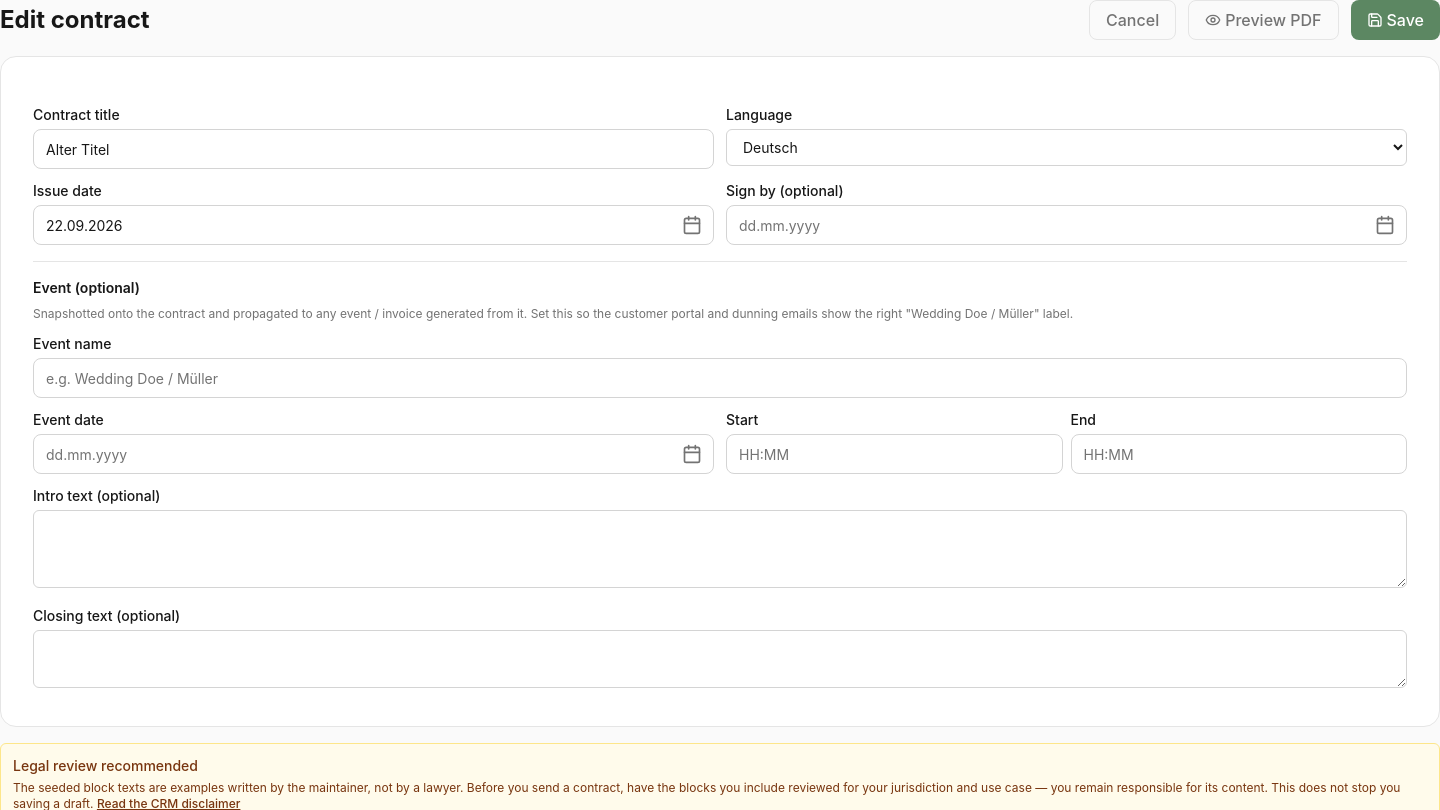
Test case: ContractEditorPage conflict › "Take theirs" loads the other version
Replace the text in the field showing "Titel" below "Contract title" with "Mein Titel" at (374, 149), box [33,129,714,169]
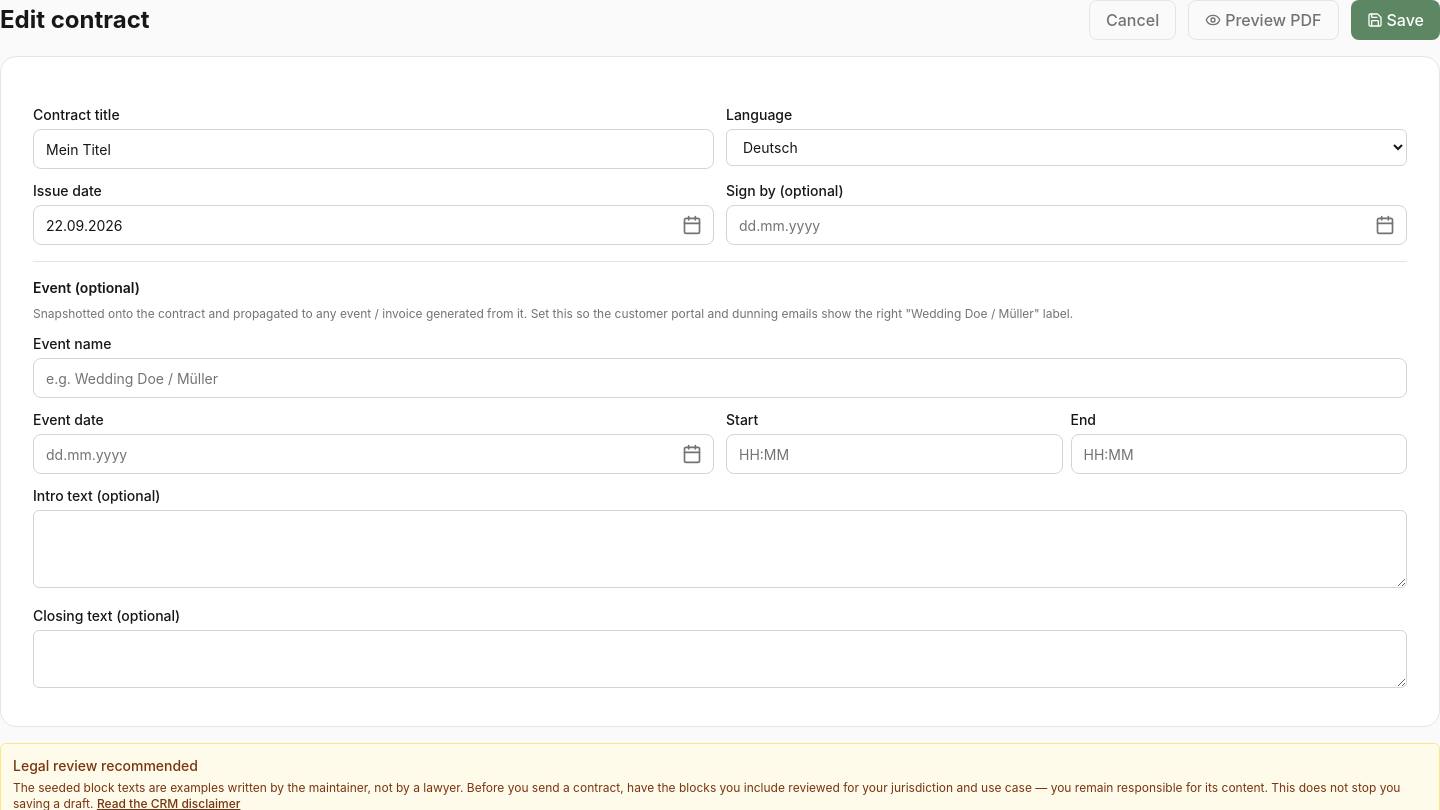
Click the button "Save" at (1395, 20), box [1350,0,1439,40]
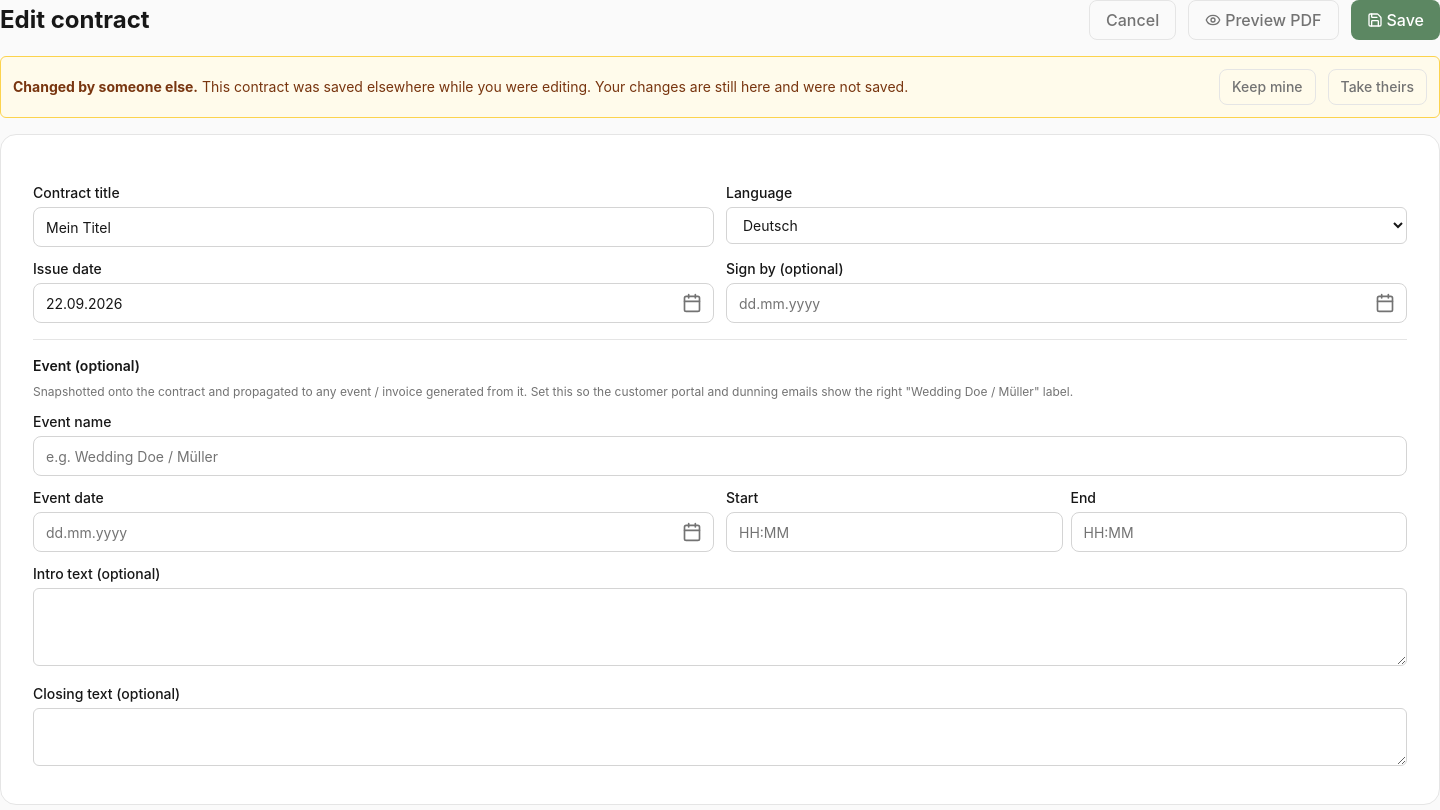
Check: the text "Changed by someone else." is shown, box [13,78,198,95]
Click the button "Take theirs" at (1377, 87), box [1328,69,1427,105]
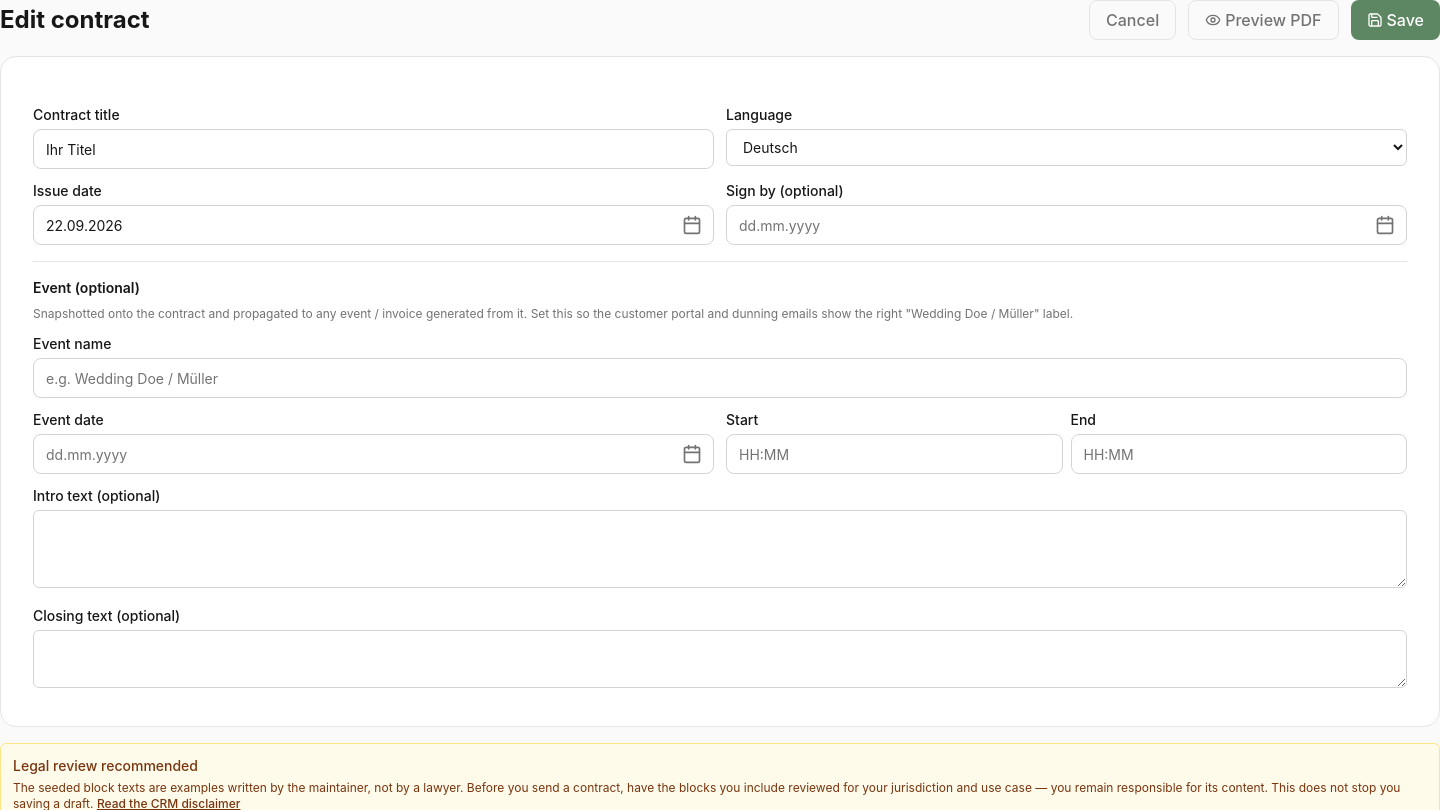
Check: the field showing "Titel" below "Contract title" holds "Ihr Titel", box [33,129,714,169]
Check: the text "Changed by someone else." is gone
